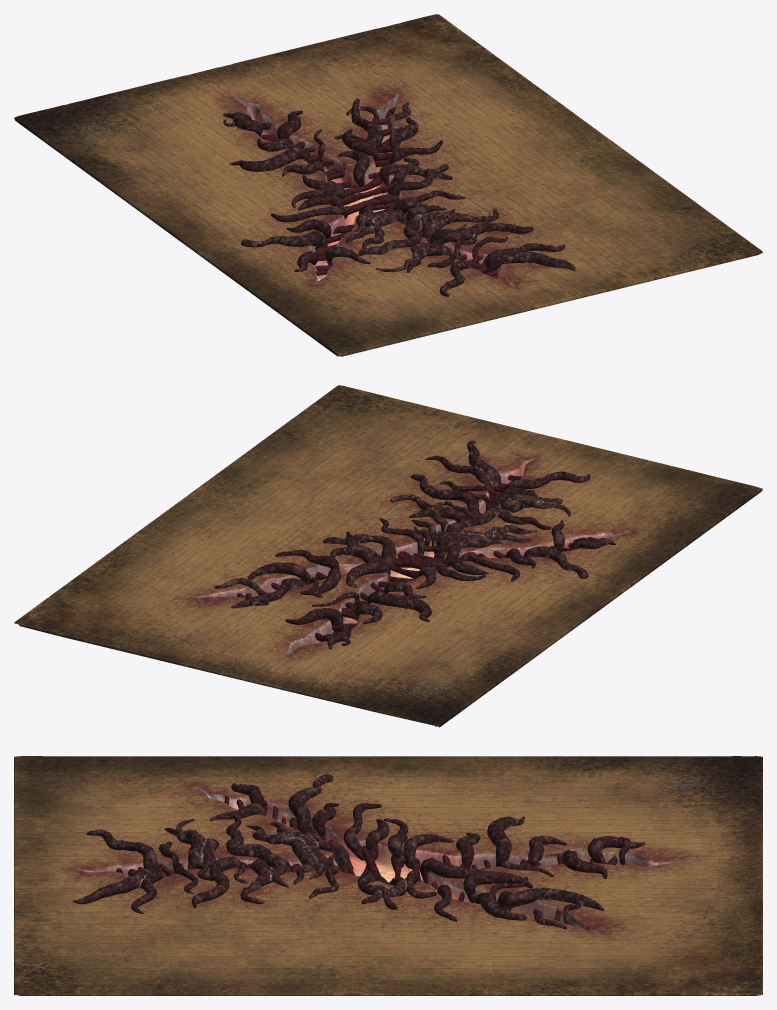
Rendered from rift-floor.glb.
3 renders of one model, top to bottom at view 1: azimuth 30°, elevation 25°; view 2: azimuth 150°, elevation 25°; view 3: azimuth 270°, elevation 25°, orthographic. The views are drawn at different scales.
Visible parts, largest first — view 1: Floor, Tentacle, Sinew; view 2: Floor, Tentacle, Sinew; view 3: Floor, Tentacle, Sinew.
Boxes of the visible parts, <box> form: Floor: <box>14,14,762,356</box>; Tentacle: <box>223,98,575,296</box>; Sinew: <box>258,106,498,278</box>; Floor: <box>14,385,762,727</box>; Tentacle: <box>214,440,615,649</box>; Sinew: <box>218,475,597,641</box>; Floor: <box>14,756,762,995</box>; Tentacle: <box>72,773,645,929</box>; Sinew: <box>116,796,617,920</box>.
Bounding box in the file's own units: 7.52 × 0.4896 × 9.99.
1 material, 1 textured.
